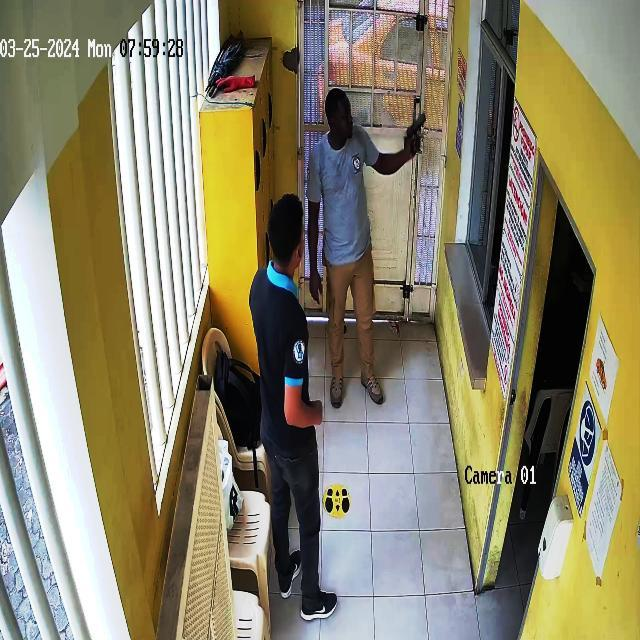Gun: (391, 102, 438, 149)
